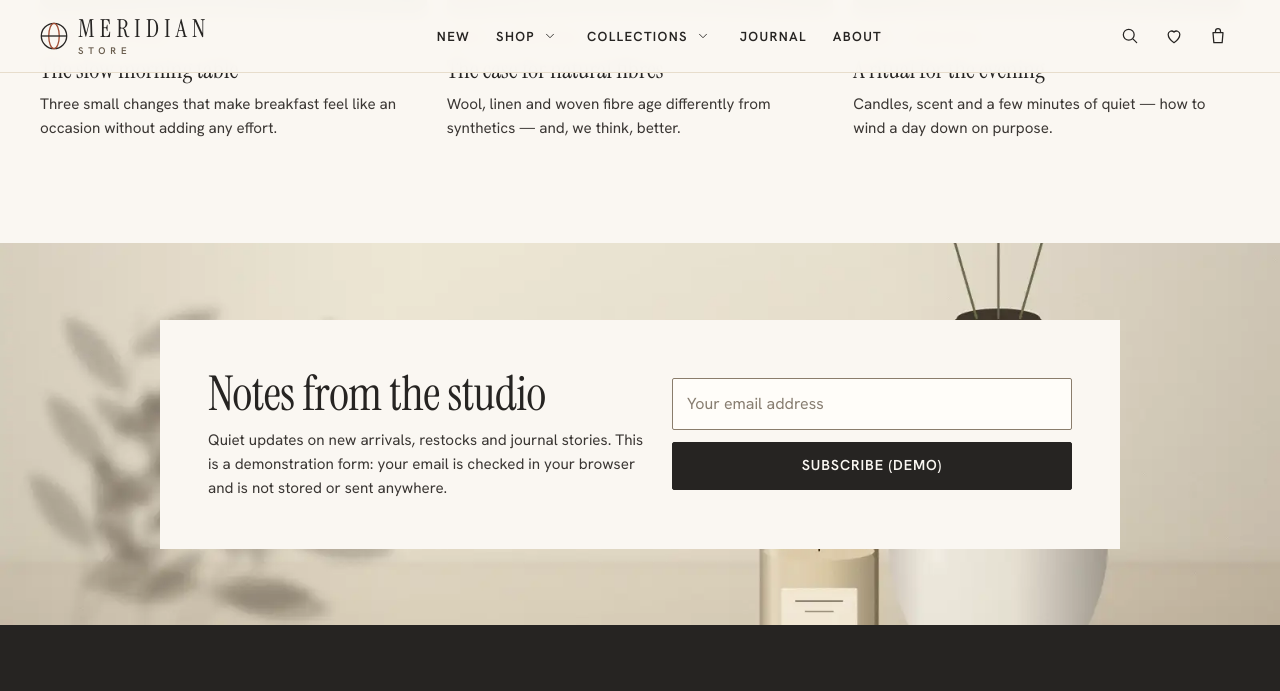
Scenario: collections, journal and static pages › validates the newsletter demo form
(page scrolled)
Type "nope" into the field with placeholder "Your email address".
click(872, 404); type("nope")  # box [672,378,1072,430]
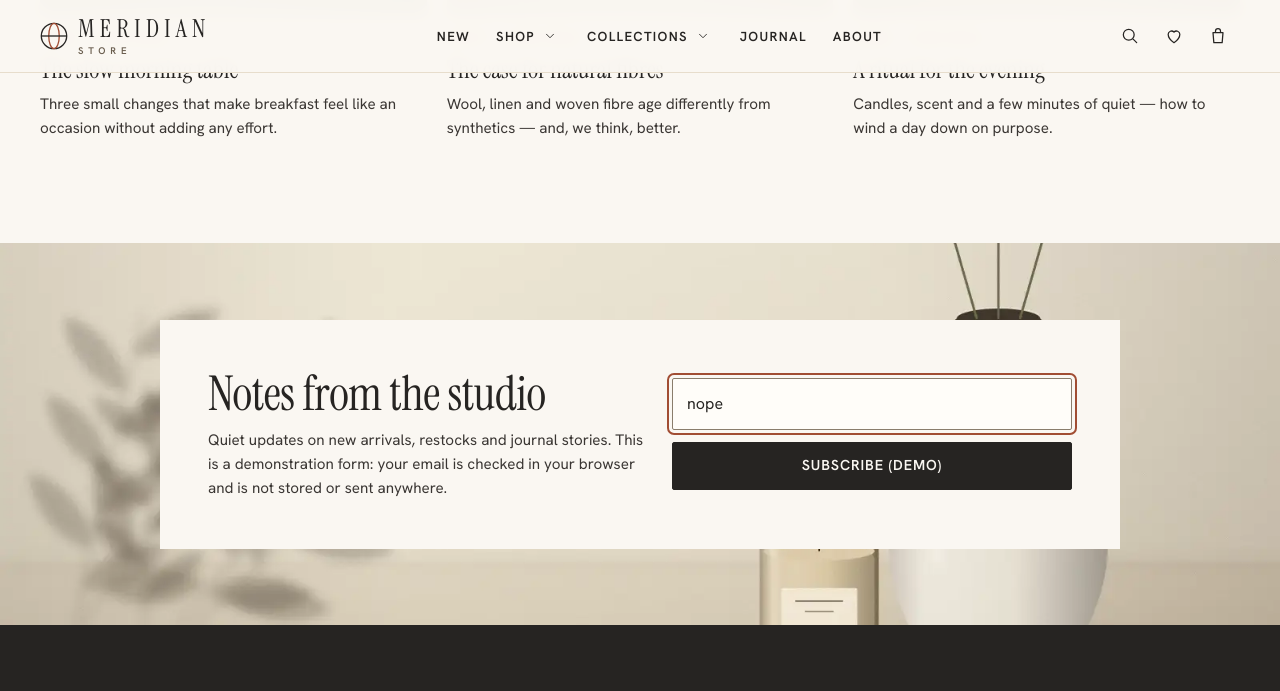
Click the button "Subscribe (demo)".
click(872, 466)  # box [672,442,1072,490]
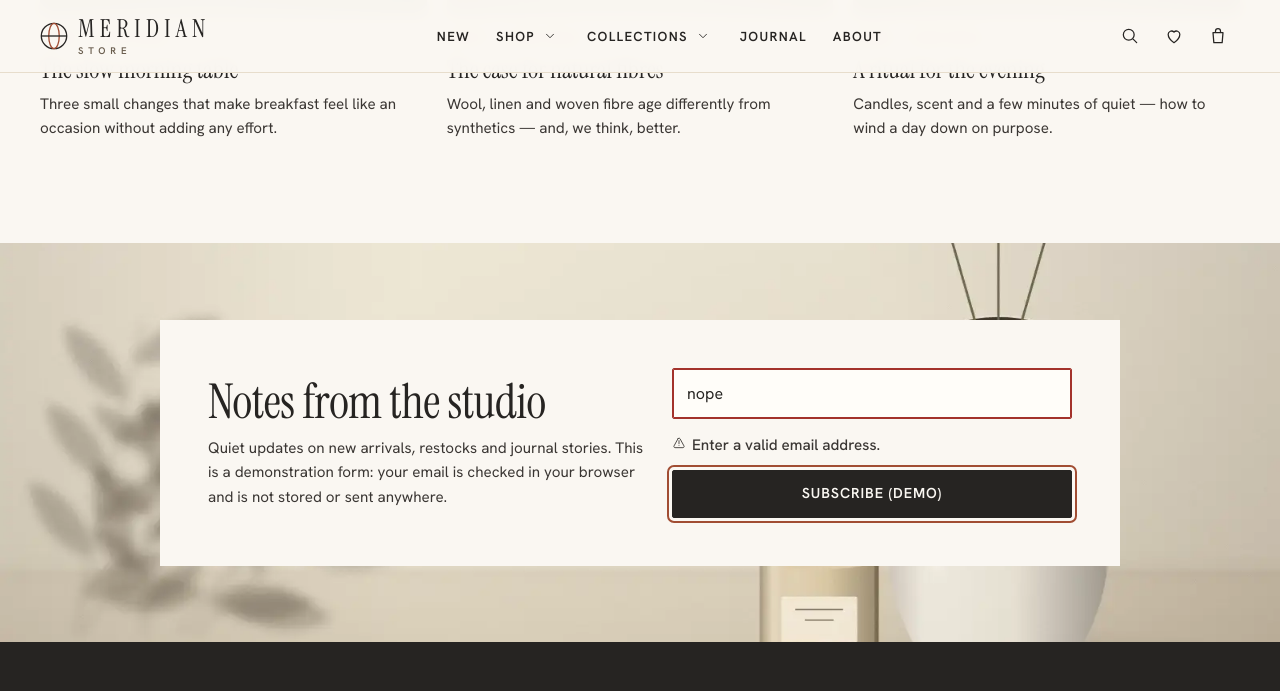
Check: the text "Enter a valid email address." is shown, box [672,435,880,455]
Replace the text in the field with placeholder "Your email address" with "a@example.com" at (872, 394), box [672,368,1072,419]
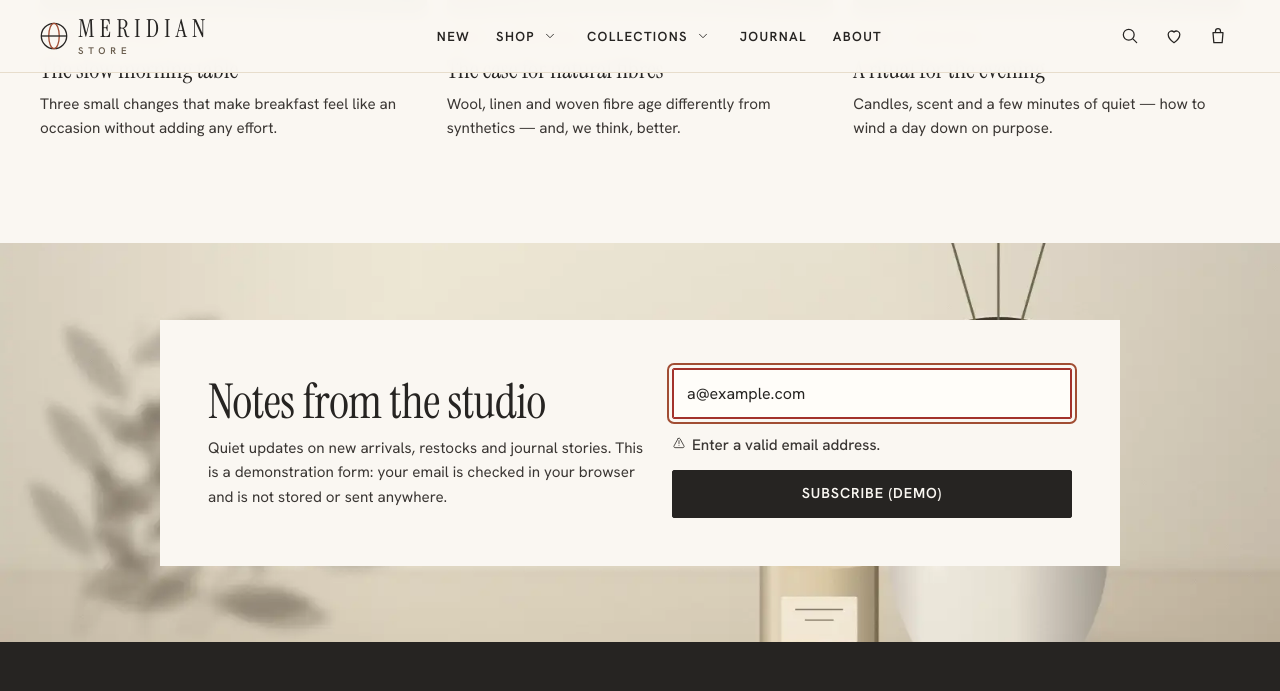
Click the button "Subscribe (demo)".
click(872, 494)  # box [672,470,1072,518]
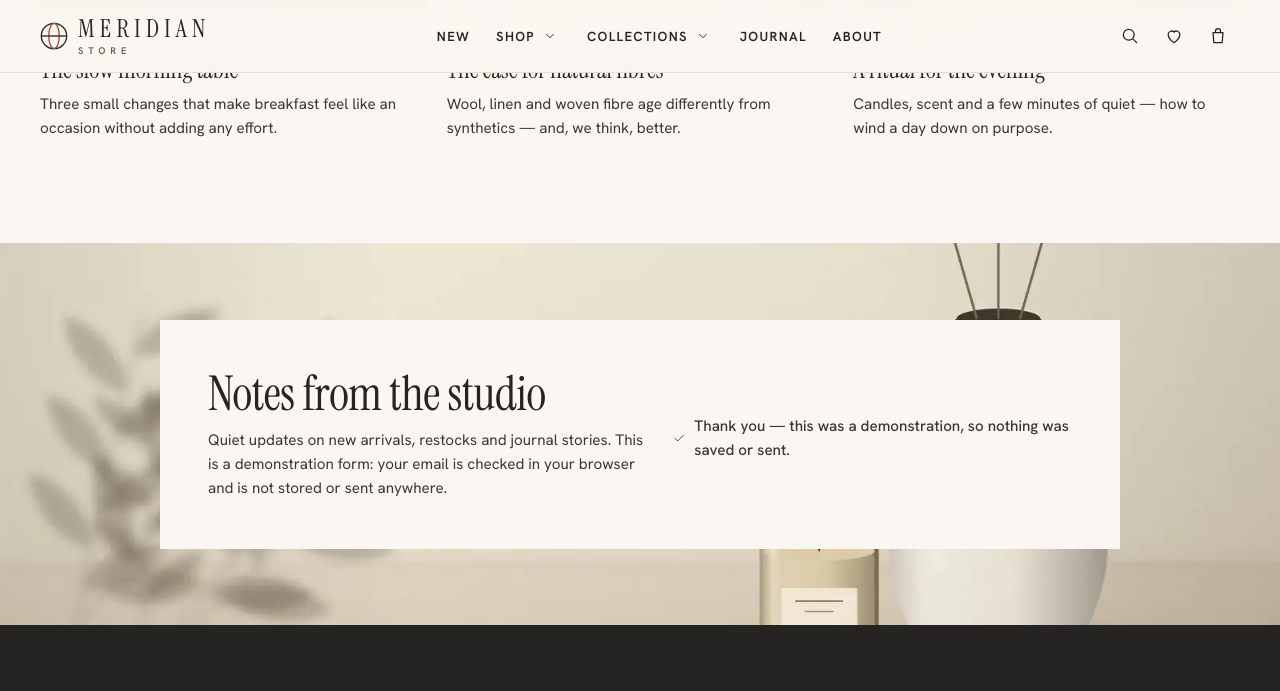
Check: the text "Thank you — this was a demonstration, so nothing was saved or sent." is shown, box [672,414,1072,462]
